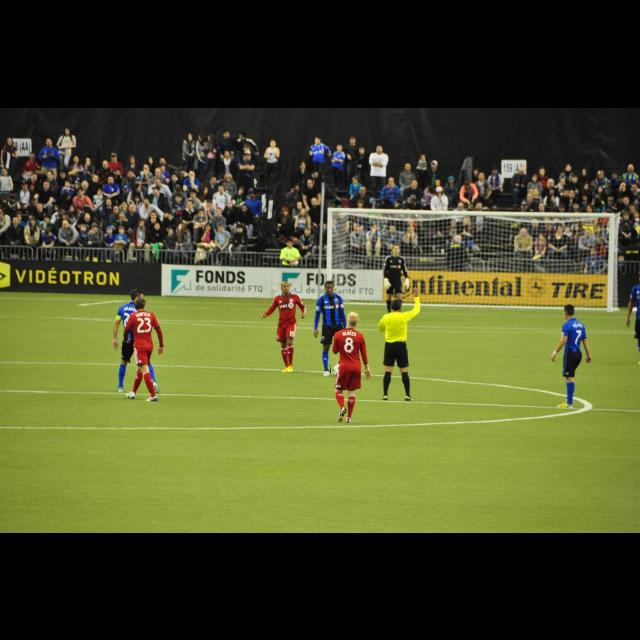Football: (330, 363, 338, 373)
